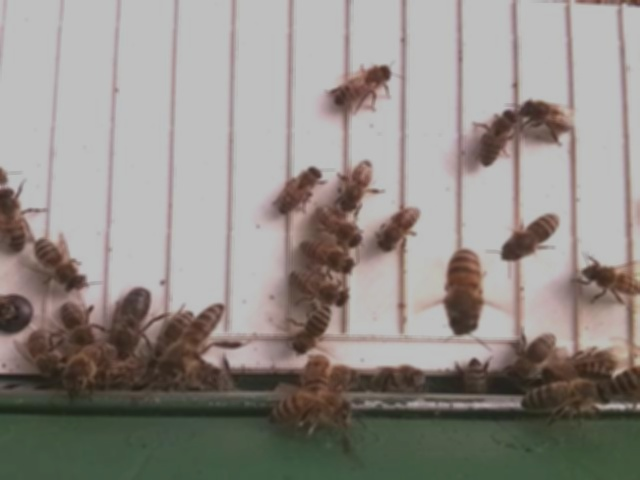Drone: (108, 283, 154, 360)
Worker: (171, 301, 228, 378), (445, 247, 484, 337), (502, 209, 563, 263), (34, 234, 87, 295), (520, 379, 606, 414), (332, 62, 394, 109), (289, 268, 353, 308), (275, 163, 324, 215), (478, 106, 519, 168), (378, 202, 423, 255), (315, 202, 364, 249), (290, 303, 334, 355), (299, 236, 357, 275), (512, 329, 558, 377), (581, 260, 640, 297), (0, 184, 30, 255), (518, 96, 574, 134), (57, 298, 97, 351), (339, 155, 375, 212)
